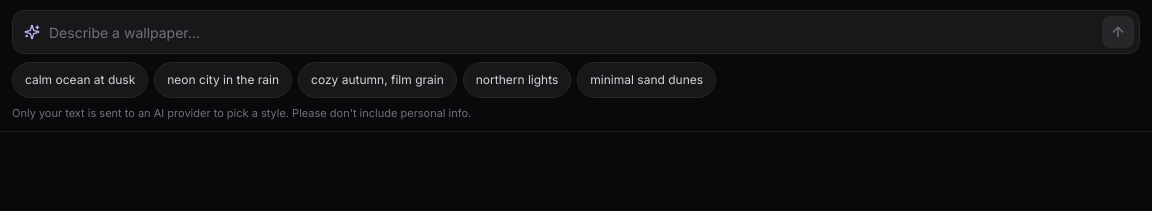
Test: AiPromptBar component › shows soft notice card when quota or rate limit notice is returned
Type "deep sea" into the field with placeholder "Describe a wallpaper…" at x=576, y=32, box x1=12 y1=10 x2=1140 y2=54
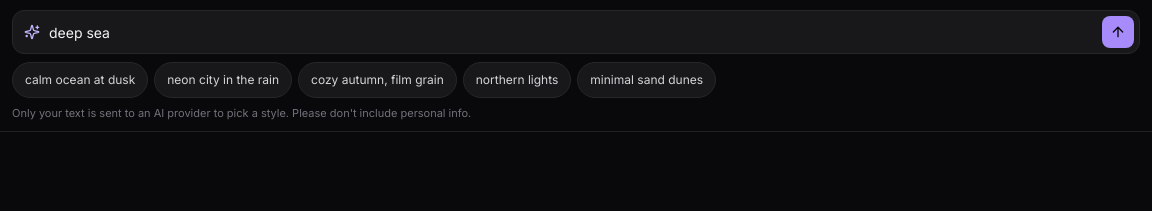
Submit the form with placeholder "Describe a wallpaper…", box x1=12 y1=10 x2=1140 y2=54
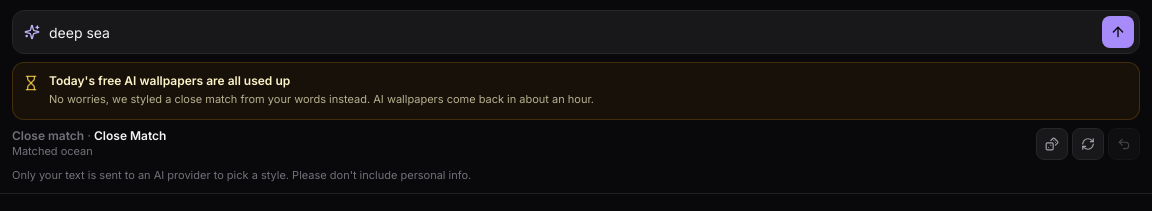
Result: the text "Today's free AI wallpapers are all used up" is shown at x1=49 y1=73 x2=290 y2=88
Result: the text "Close match" is shown at x1=12 y1=128 x2=84 y2=143
